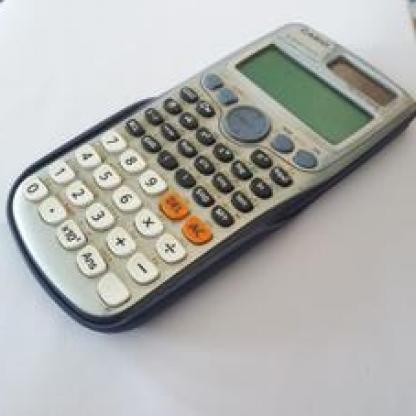calculator: (7, 13, 414, 335)
